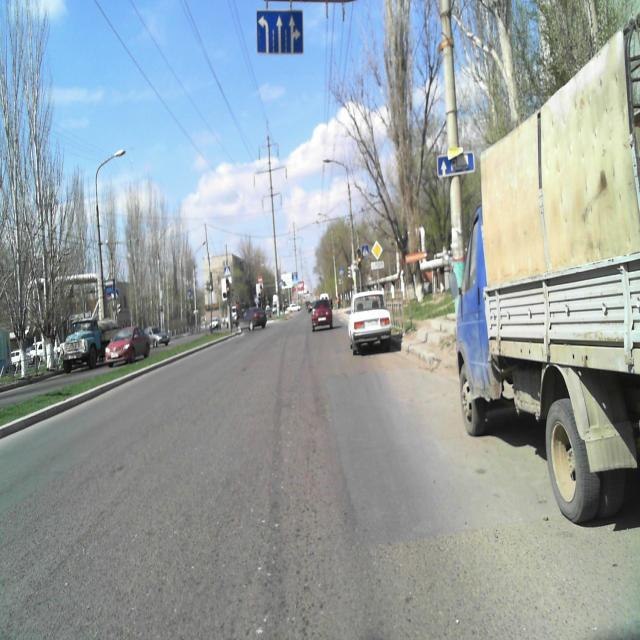road sign: (256, 12, 303, 56), (439, 151, 475, 177), (371, 239, 383, 261), (361, 244, 369, 259)
